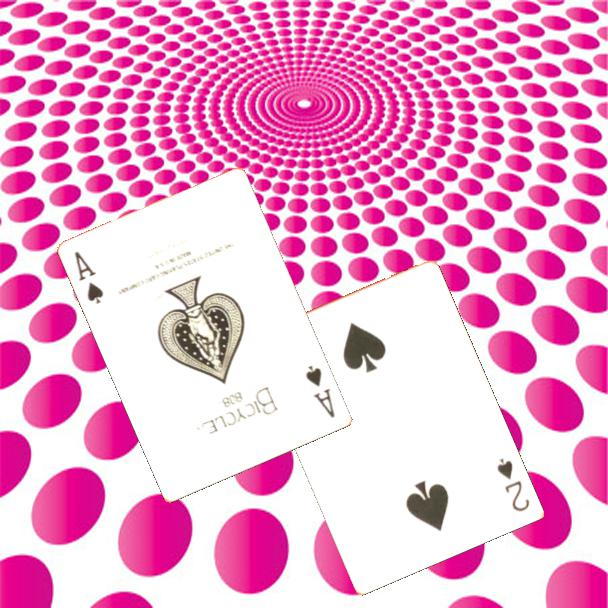s01: (302, 362, 338, 421), (71, 248, 107, 307)
s02: (493, 454, 532, 514)
